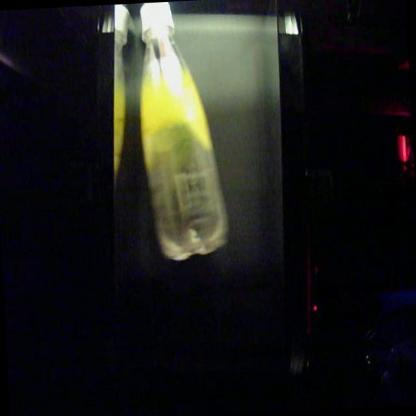Plastic Bottle: (140, 1, 228, 260)
